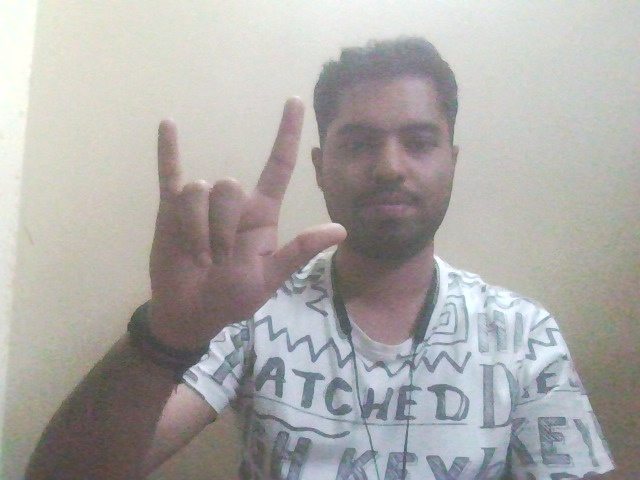K: (130, 90, 349, 337)
